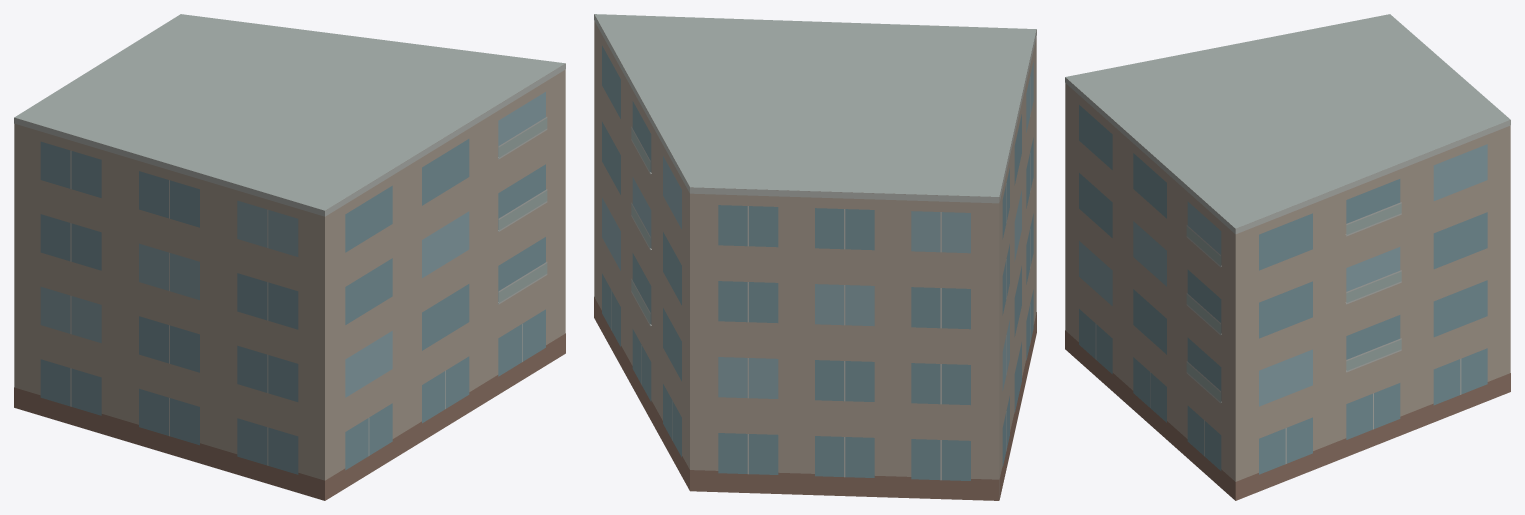
The model's file is survey-upis-32901305.glb.
3 views of the same model, side by side, from view 1: azimuth 30°, elevation 25°; view 2: azimuth 150°, elevation 25°; view 3: azimuth 270°, elevation 25° (orthographic). The views are drawn at different scales.
Visible parts, largest first — view 1: survey-upis-32901305.tmp; view 2: survey-upis-32901305.tmp; view 3: survey-upis-32901305.tmp.
Part boxes in pixels (bbox=[...]): survey-upis-32901305.tmp: bbox=[14, 14, 565, 500]; survey-upis-32901305.tmp: bbox=[594, 14, 1036, 500]; survey-upis-32901305.tmp: bbox=[1065, 14, 1510, 500].
Size of the model in its own units: 19.81 by 11.7 by 17.38.
